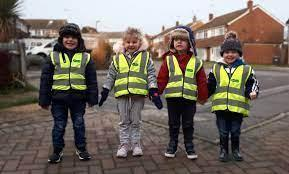Vest: (210, 62, 254, 112), (48, 49, 91, 92), (163, 52, 201, 100), (112, 50, 150, 95)
